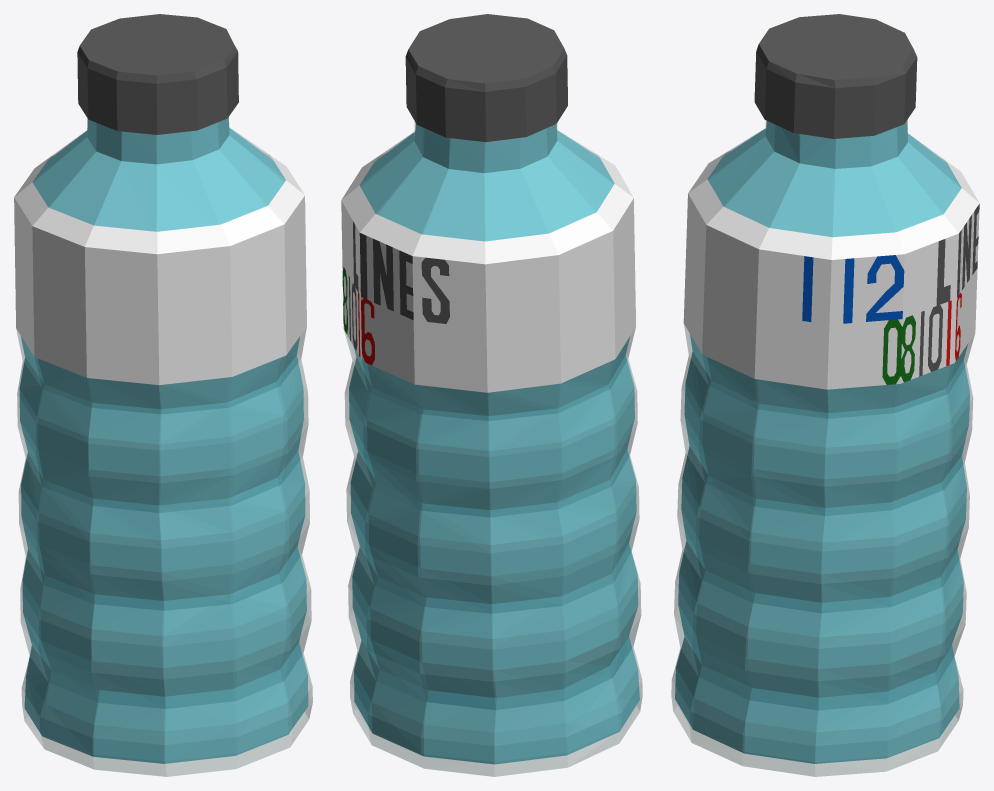
3 views of the same model, side by side, from view 1: azimuth 30°, elevation 25°; view 2: azimuth 150°, elevation 25°; view 3: azimuth 270°, elevation 25° (orthographic).
Parts seen in each view (by area): view 1: group1187010915; view 2: group1187010915; view 3: group1187010915.
Part boxes in pixels (box(x1,y1,x2,y2)): group1187010915: box(14, 14, 312, 776); group1187010915: box(341, 14, 642, 776); group1187010915: box(671, 14, 979, 776).
Size of the model in its own units: 0.2466 by 0.6289 by 0.2601.
